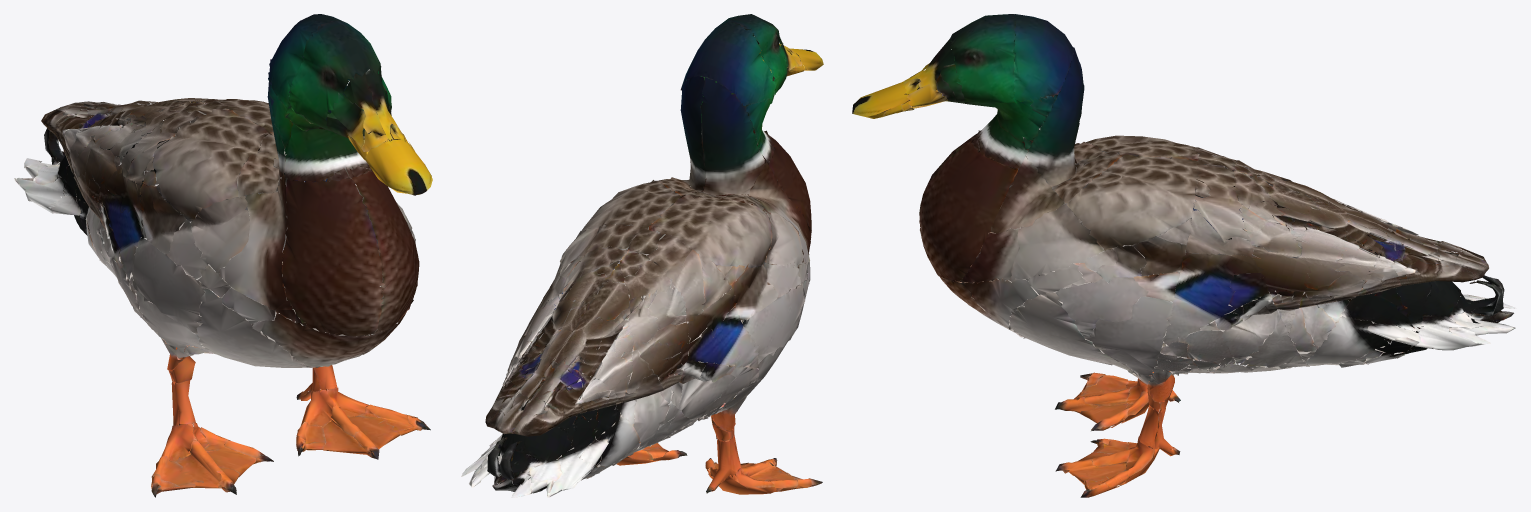
The model's file is duck.glb.
3 renders of one model, left to right at view 1: azimuth 30°, elevation 25°; view 2: azimuth 150°, elevation 25°; view 3: azimuth 270°, elevation 25°, orthographic. The views are drawn at different scales.
Visible parts, largest first — view 1: Mesh_0; view 2: Mesh_0; view 3: Mesh_0.
Part boxes in pixels (<box>): Mesh_0: <box>14,14,432,497</box>; Mesh_0: <box>461,14,823,497</box>; Mesh_0: <box>852,14,1516,497</box>.
Bounding box in the file's own units: 0.0306 × 0.0501 × 0.071.
1 material, 1 textured.
